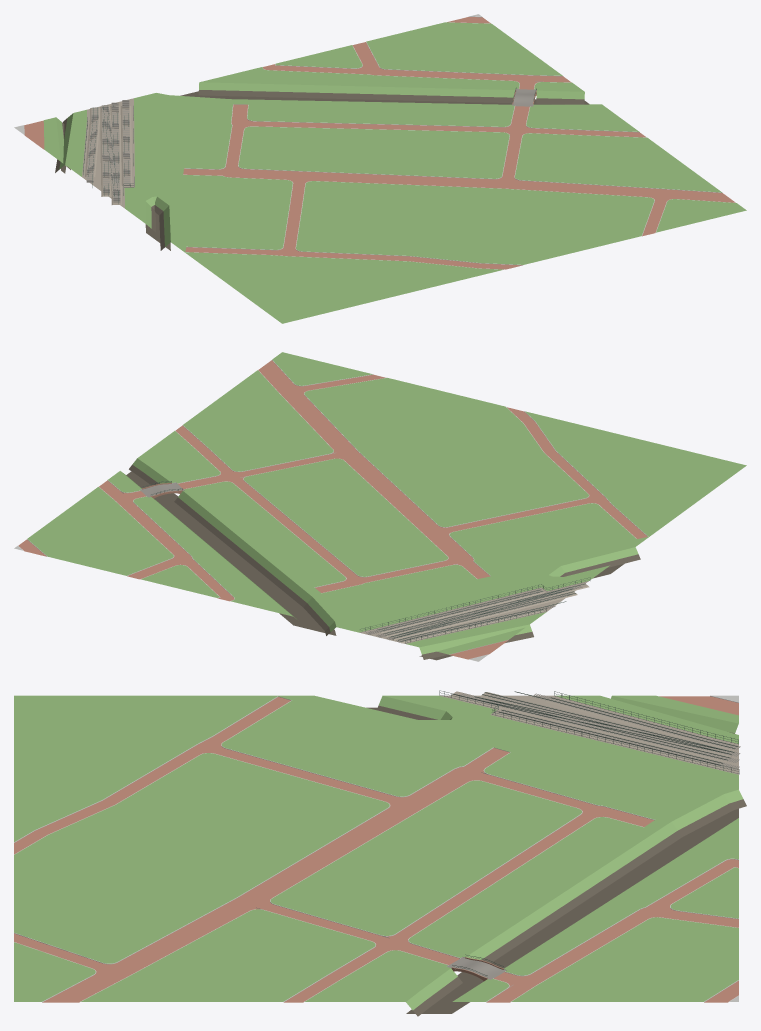
The model's file is ground_4_8.glb.
3 views of the same model, one above another, from view 1: azimuth 30°, elevation 25°; view 2: azimuth 150°, elevation 25°; view 3: azimuth 270°, elevation 25° (orthographic). The views are drawn at different scales.
Visible parts, largest first — view 1: ground_4_8; view 2: ground_4_8; view 3: ground_4_8.
Part boxes in pixels (x1,y1,x2,y2): ground_4_8: (14,14,746,323); ground_4_8: (14,352,746,661); ground_4_8: (14,690,746,1016).
Bounding box in the file's own units: 205 × 5.17 × 202.
